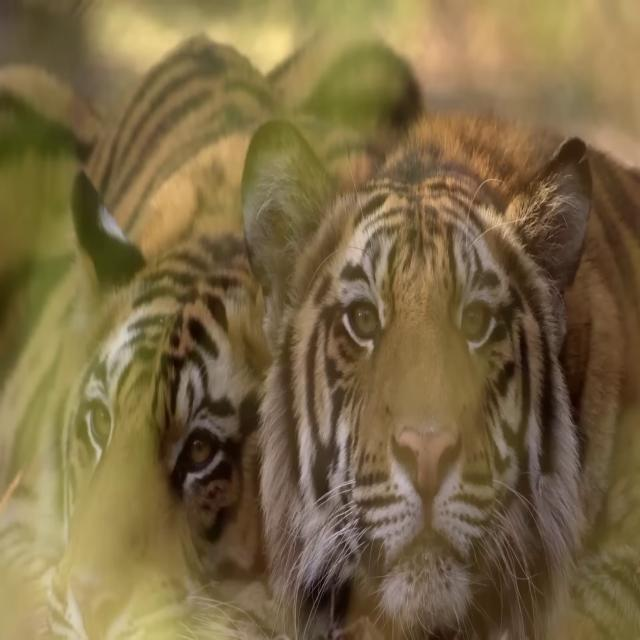tiger: (238, 115, 639, 640), (55, 169, 263, 640)
